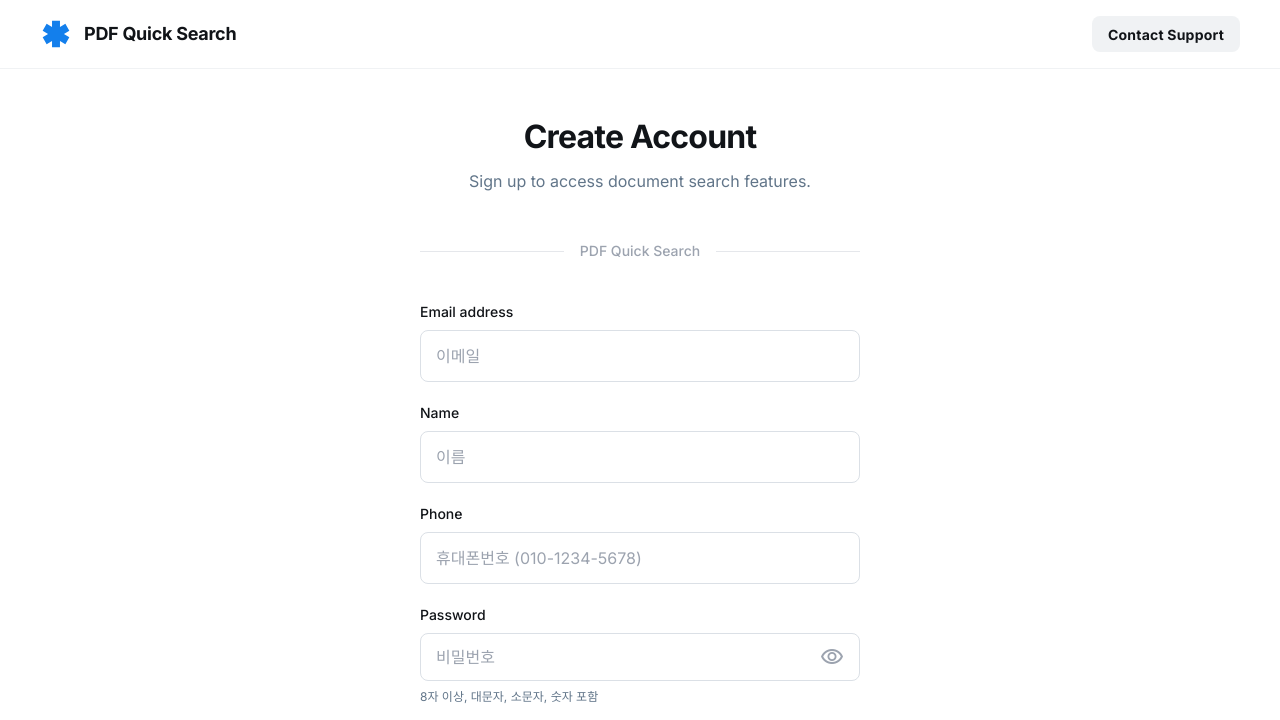
Test: SignupPage › Form validation › should show error when name is empty
Type "test@example.com" into the field labelled "Email address".
click(640, 356); type("test@example.com")  # box x1=420 y1=330 x2=860 y2=382
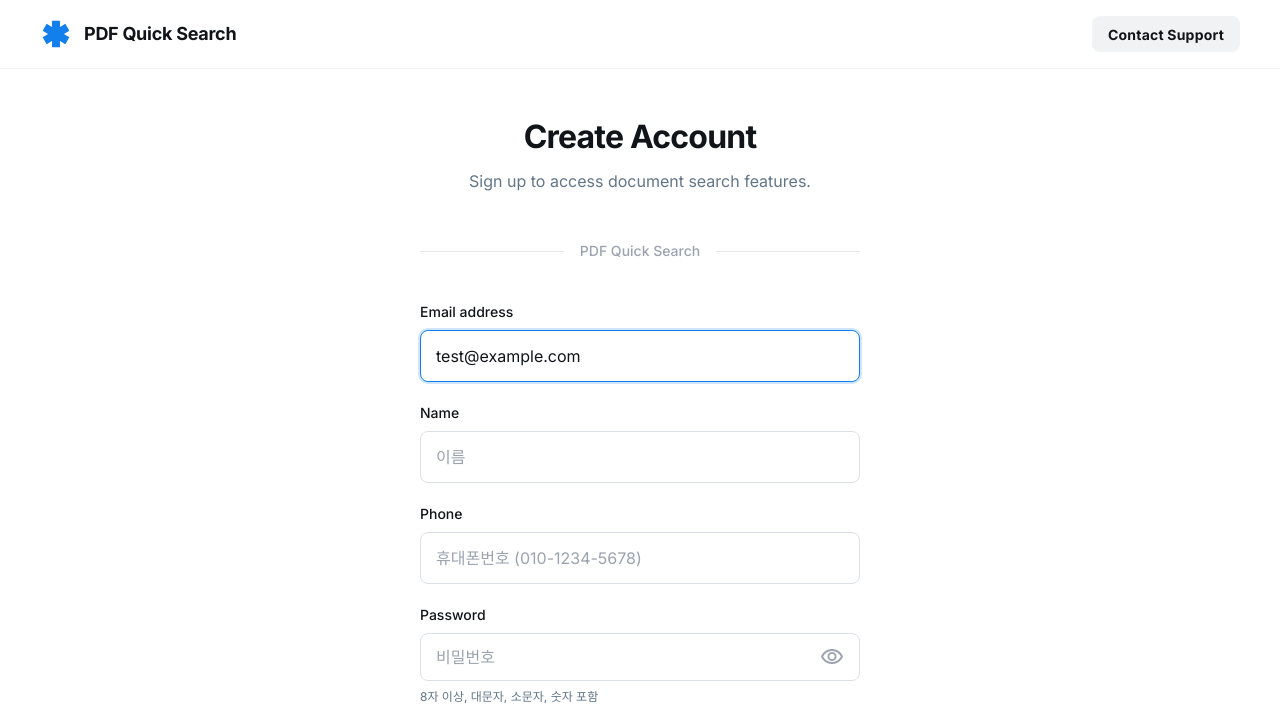
Type "010-1234-5678" into the field labelled "Phone".
click(640, 558); type("010-1234-5678")  # box x1=420 y1=532 x2=860 y2=584
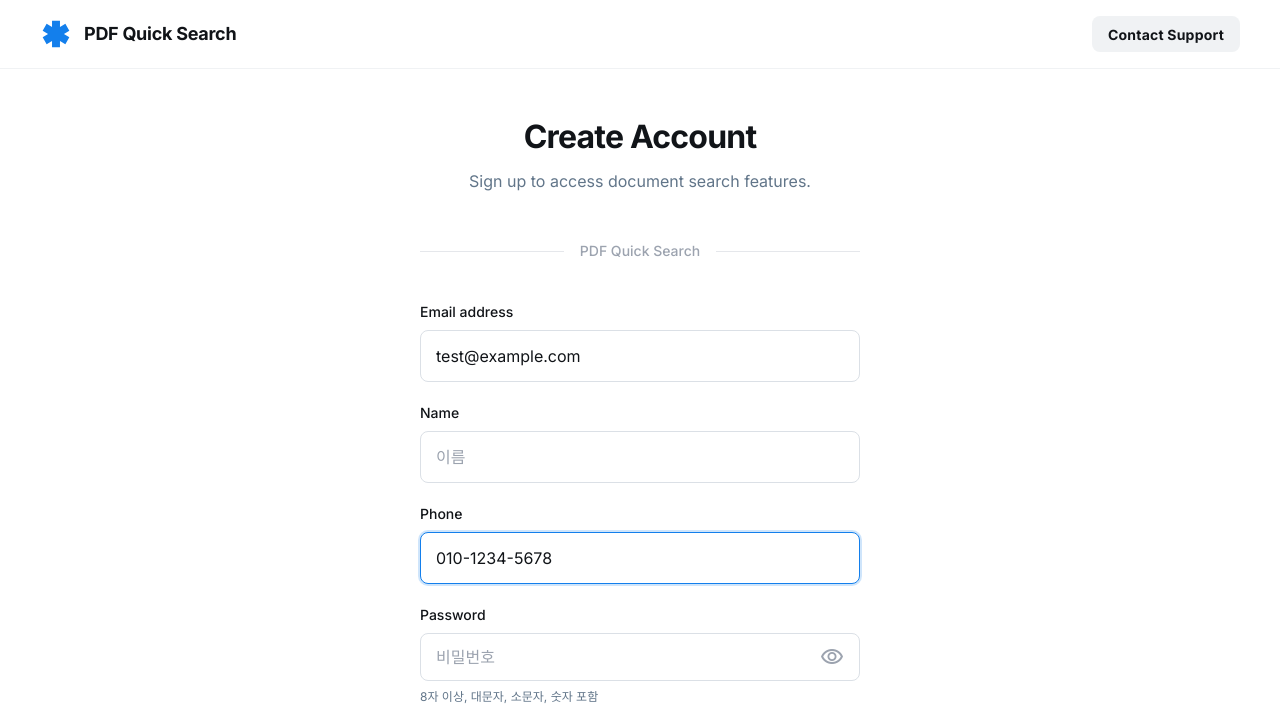
Type "Password123" into the password field labelled "Password".
click(640, 657); type("Password123")  # box x1=420 y1=633 x2=860 y2=681
(page scrolled)
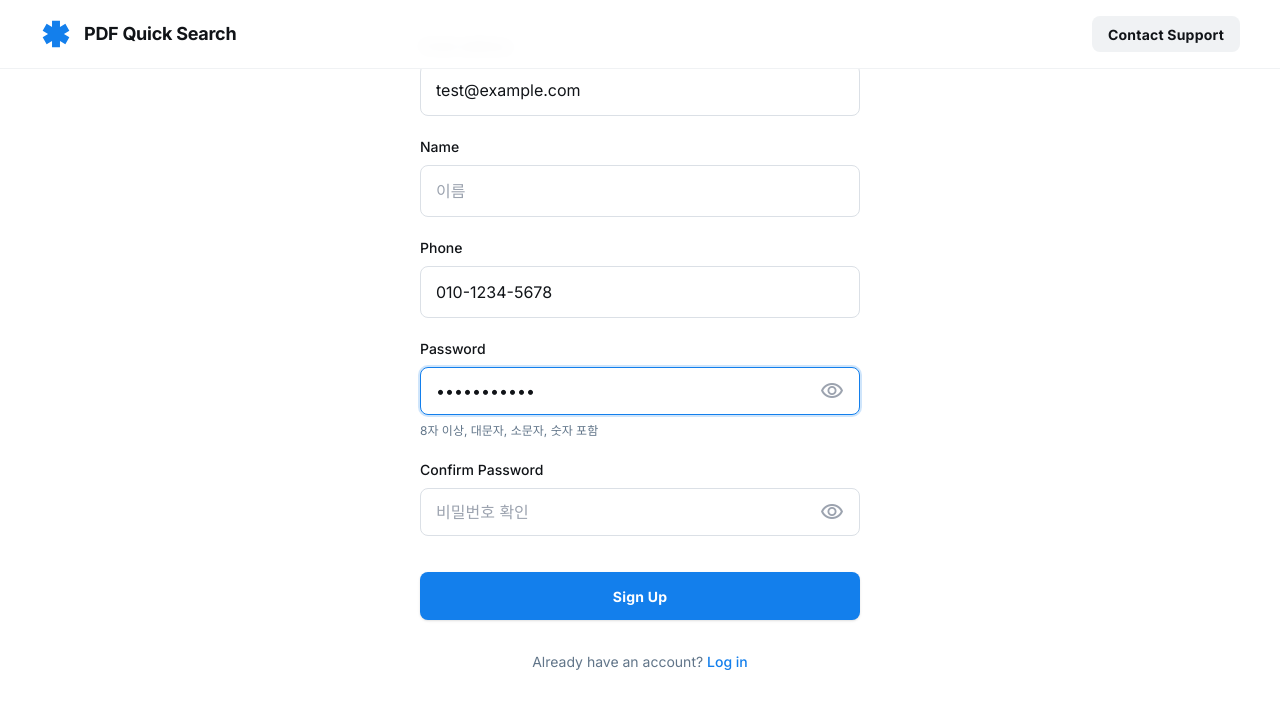
Type "Password123" into the password field labelled "Confirm Password".
click(640, 512); type("Password123")  # box x1=420 y1=488 x2=860 y2=536
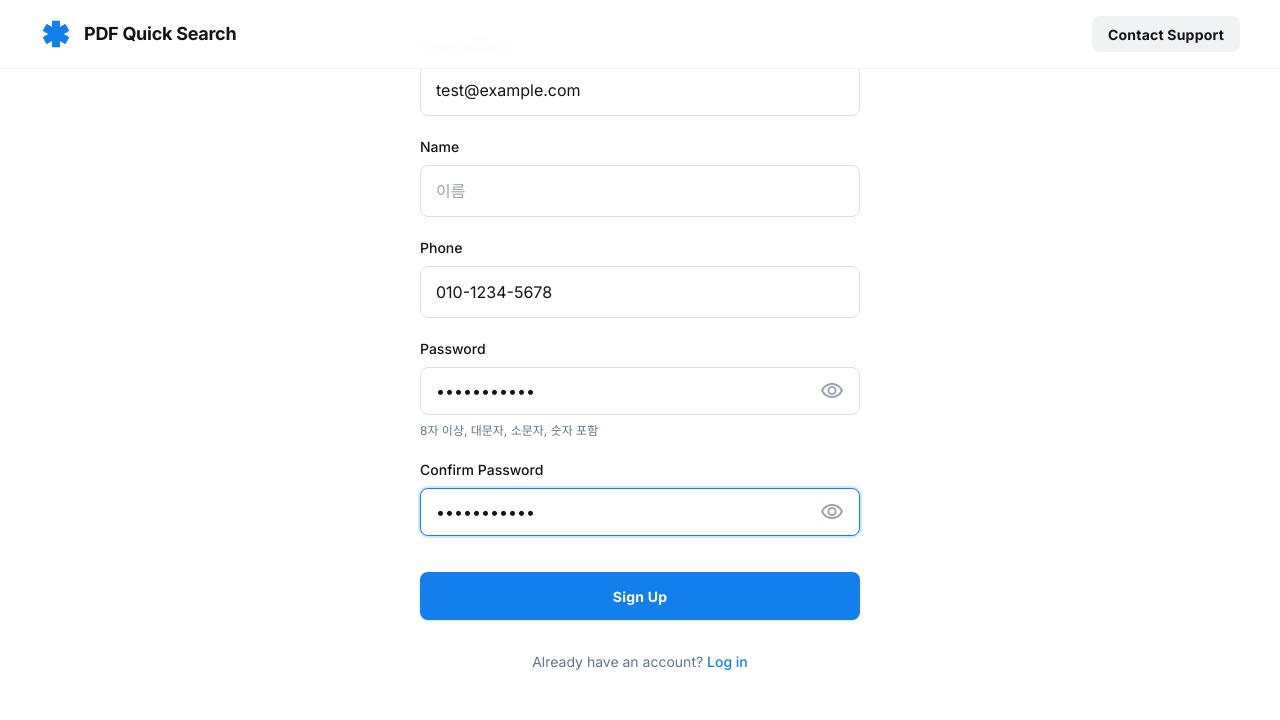
Click the button "Sign Up".
click(640, 596)  # box x1=420 y1=572 x2=860 y2=620
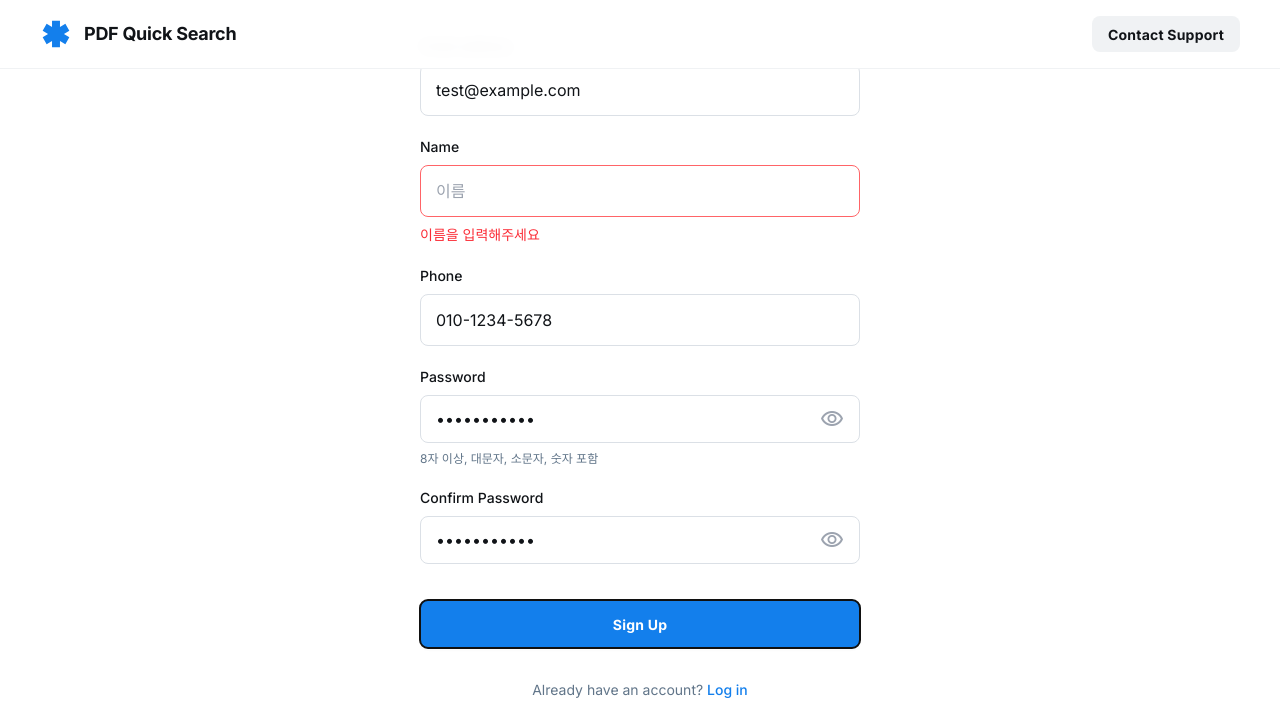
Expected: the text "이름을 입력해주세요" is shown, x1=420 y1=226 x2=540 y2=243
